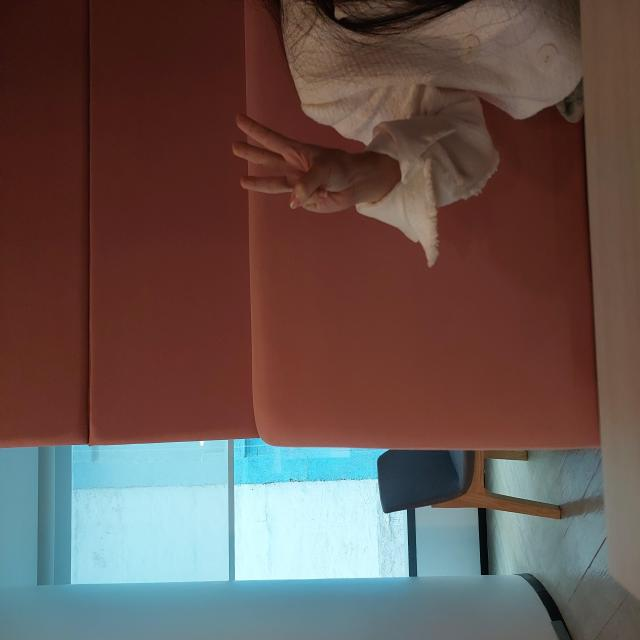W: (425, 230, 527, 356)
